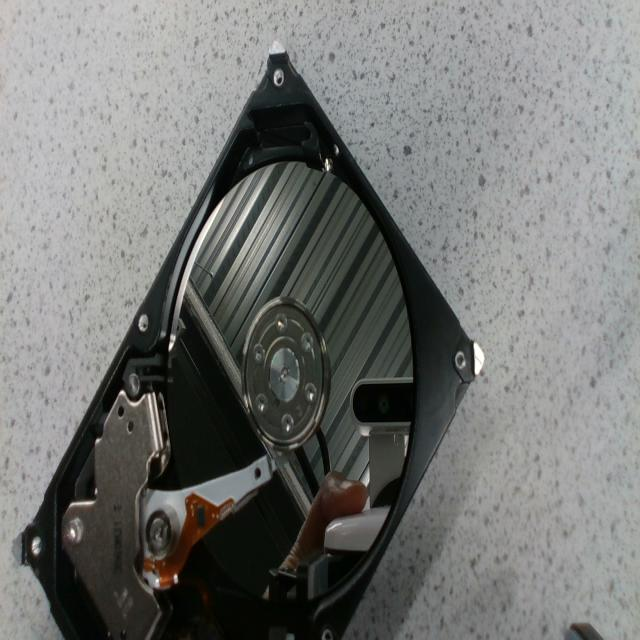actuator arm: (141, 457, 274, 588)
actuator axis: (148, 515, 171, 556)
case: (16, 43, 482, 639)
magnet: (62, 391, 160, 639)
platter: (168, 167, 416, 614)
platter holder: (242, 297, 330, 453)
screw: (65, 517, 83, 543), (305, 383, 316, 404), (282, 414, 293, 434), (256, 394, 267, 413), (276, 314, 286, 332), (302, 333, 312, 350), (254, 346, 263, 364)
